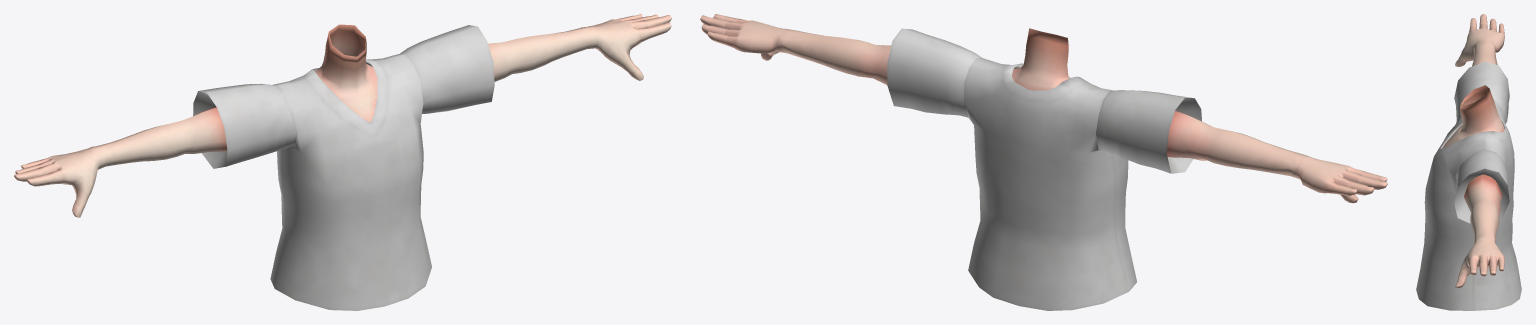
The model's file is tr0740_00_upb00.gltf.
The picture shows the model from 3 angles, left to right: view 1: azimuth 30°, elevation 25°; view 2: azimuth 150°, elevation 25°; view 3: azimuth 270°, elevation 25°; orthographic projection. The views are drawn at different scales.
Visible parts, largest first — view 1: upb00_cloth_mesh_shape:upperbody00, upb00_upperbody_mesh_shape:upperbody00_skin; view 2: upb00_cloth_mesh_shape:upperbody00, upb00_upperbody_mesh_shape:upperbody00_skin; view 3: upb00_cloth_mesh_shape:upperbody00, upb00_upperbody_mesh_shape:upperbody00_skin.
Boxes of the visible parts, x1,y1,x2,y2 form: upb00_cloth_mesh_shape:upperbody00: [193, 25, 494, 310]; upb00_upperbody_mesh_shape:upperbody00_skin: [14, 14, 671, 217]; upb00_cloth_mesh_shape:upperbody00: [887, 28, 1201, 310]; upb00_upperbody_mesh_shape:upperbody00_skin: [700, 14, 1387, 203]; upb00_cloth_mesh_shape:upperbody00: [1416, 61, 1521, 310]; upb00_upperbody_mesh_shape:upperbody00_skin: [1443, 14, 1504, 288].
Size of what is drawn, in the model's own units: 1.63 by 0.5912 by 0.2814.
2 materials, 2 textured.
